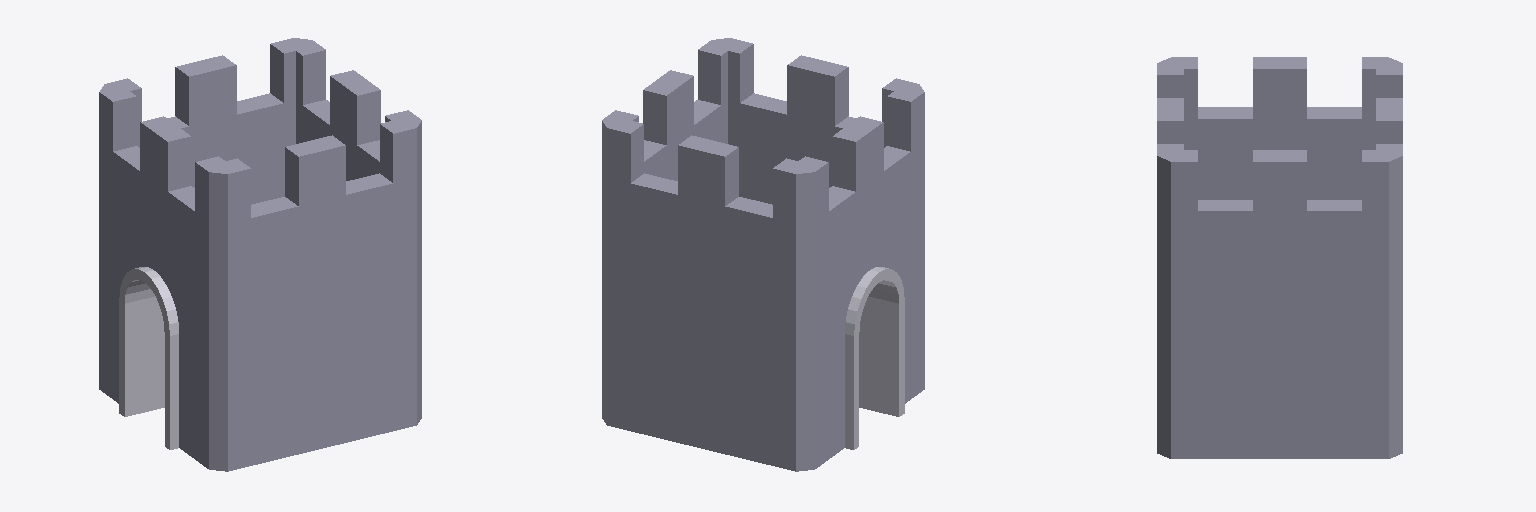
Rendered from capstone.obj.
3 renders of one model, left to right at view 1: azimuth 30°, elevation 25°; view 2: azimuth 150°, elevation 25°; view 3: azimuth 270°, elevation 25°, orthographic.
Size of the model in its own units: 1.18 by 1.5 by 1.12.